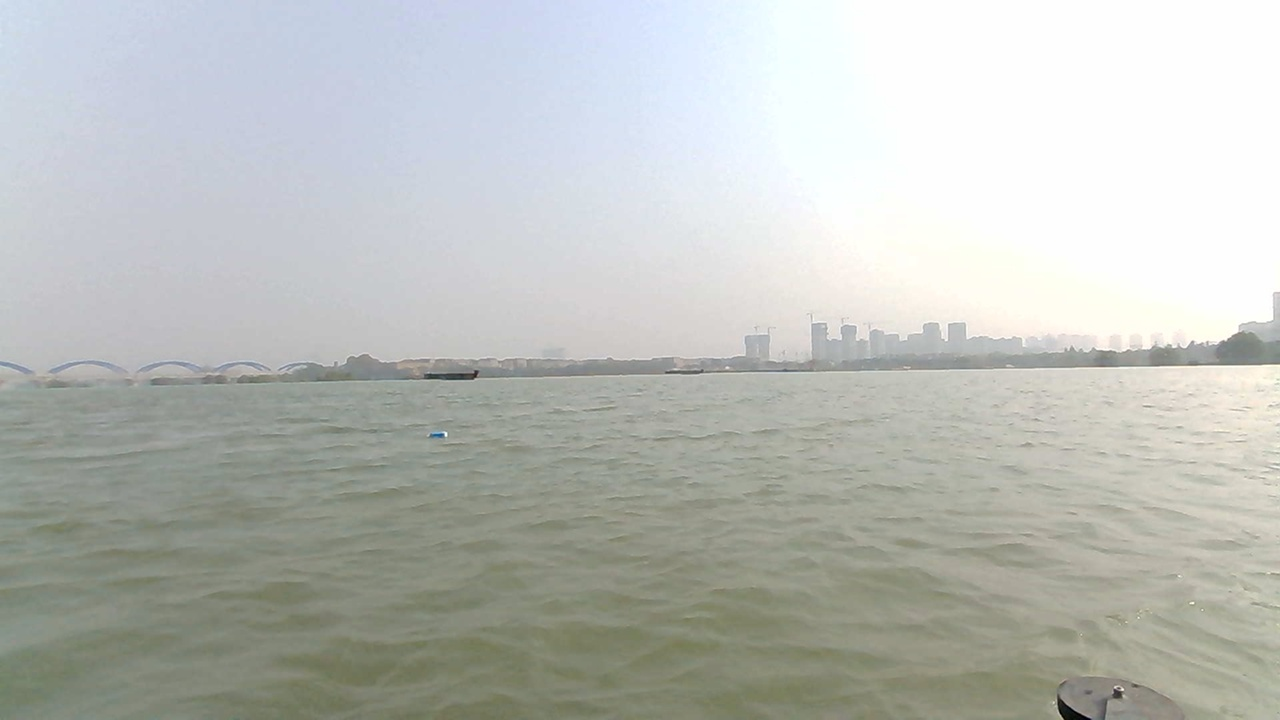bottle: (423, 429, 452, 443)
